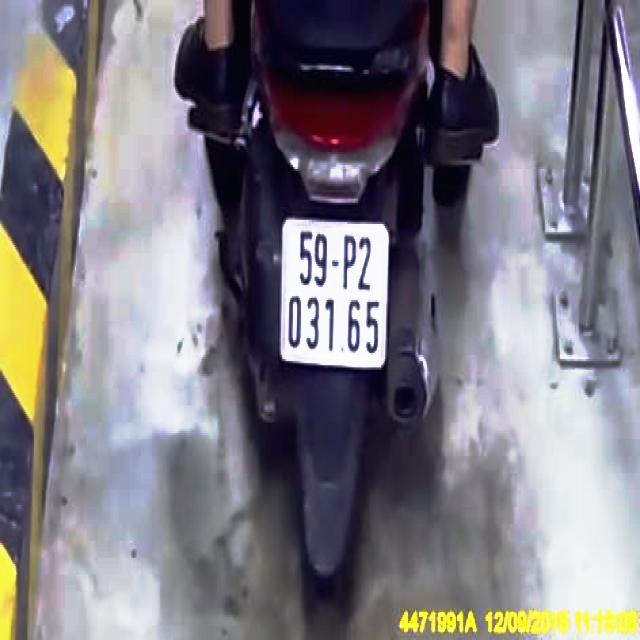license_plate: (283, 222, 388, 365)
